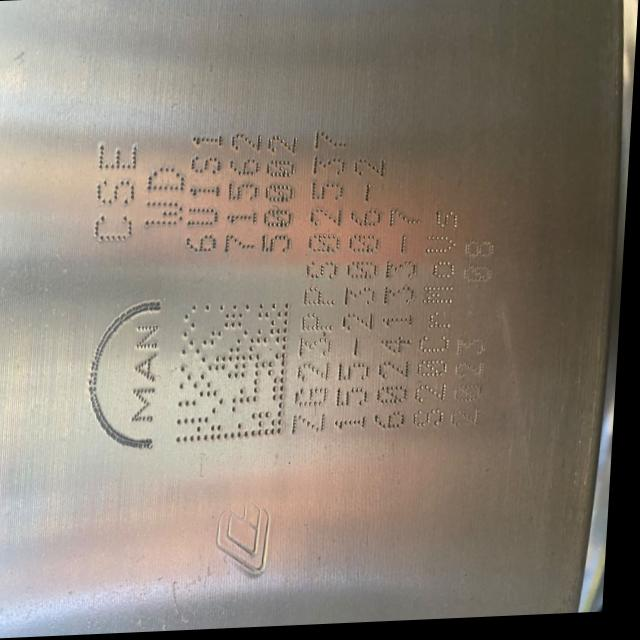dmc: (182, 305, 294, 444)
